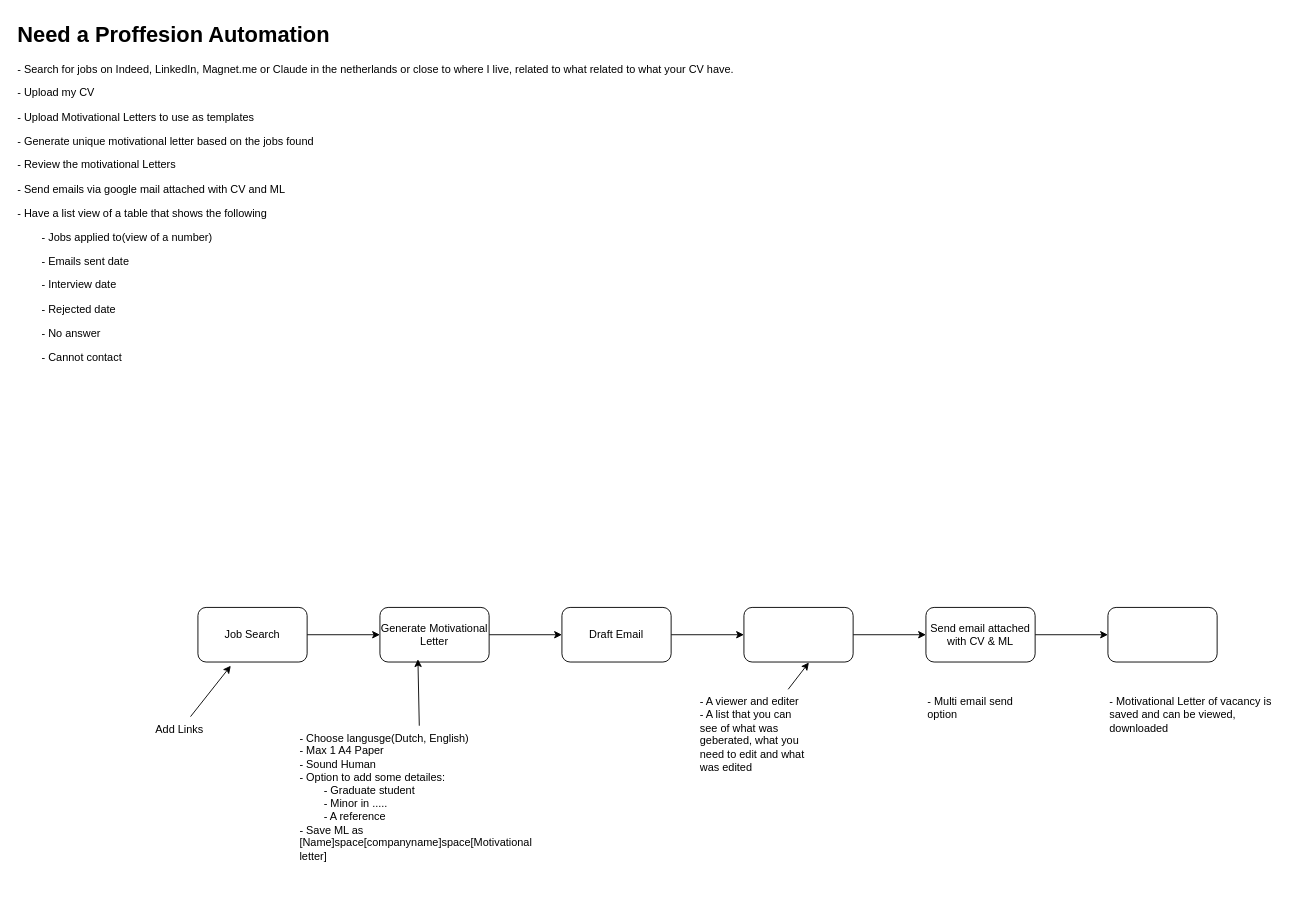
Some shapes in this 1296 by 898 pixel diagram are drawn without their labels. The box of each missing label's shape, as (x1, y1, x2, y2) in pixels:
Review Email & Motivational Letter: (743, 607, 853, 662)
View List of vacancies sent: (1107, 607, 1217, 662)
